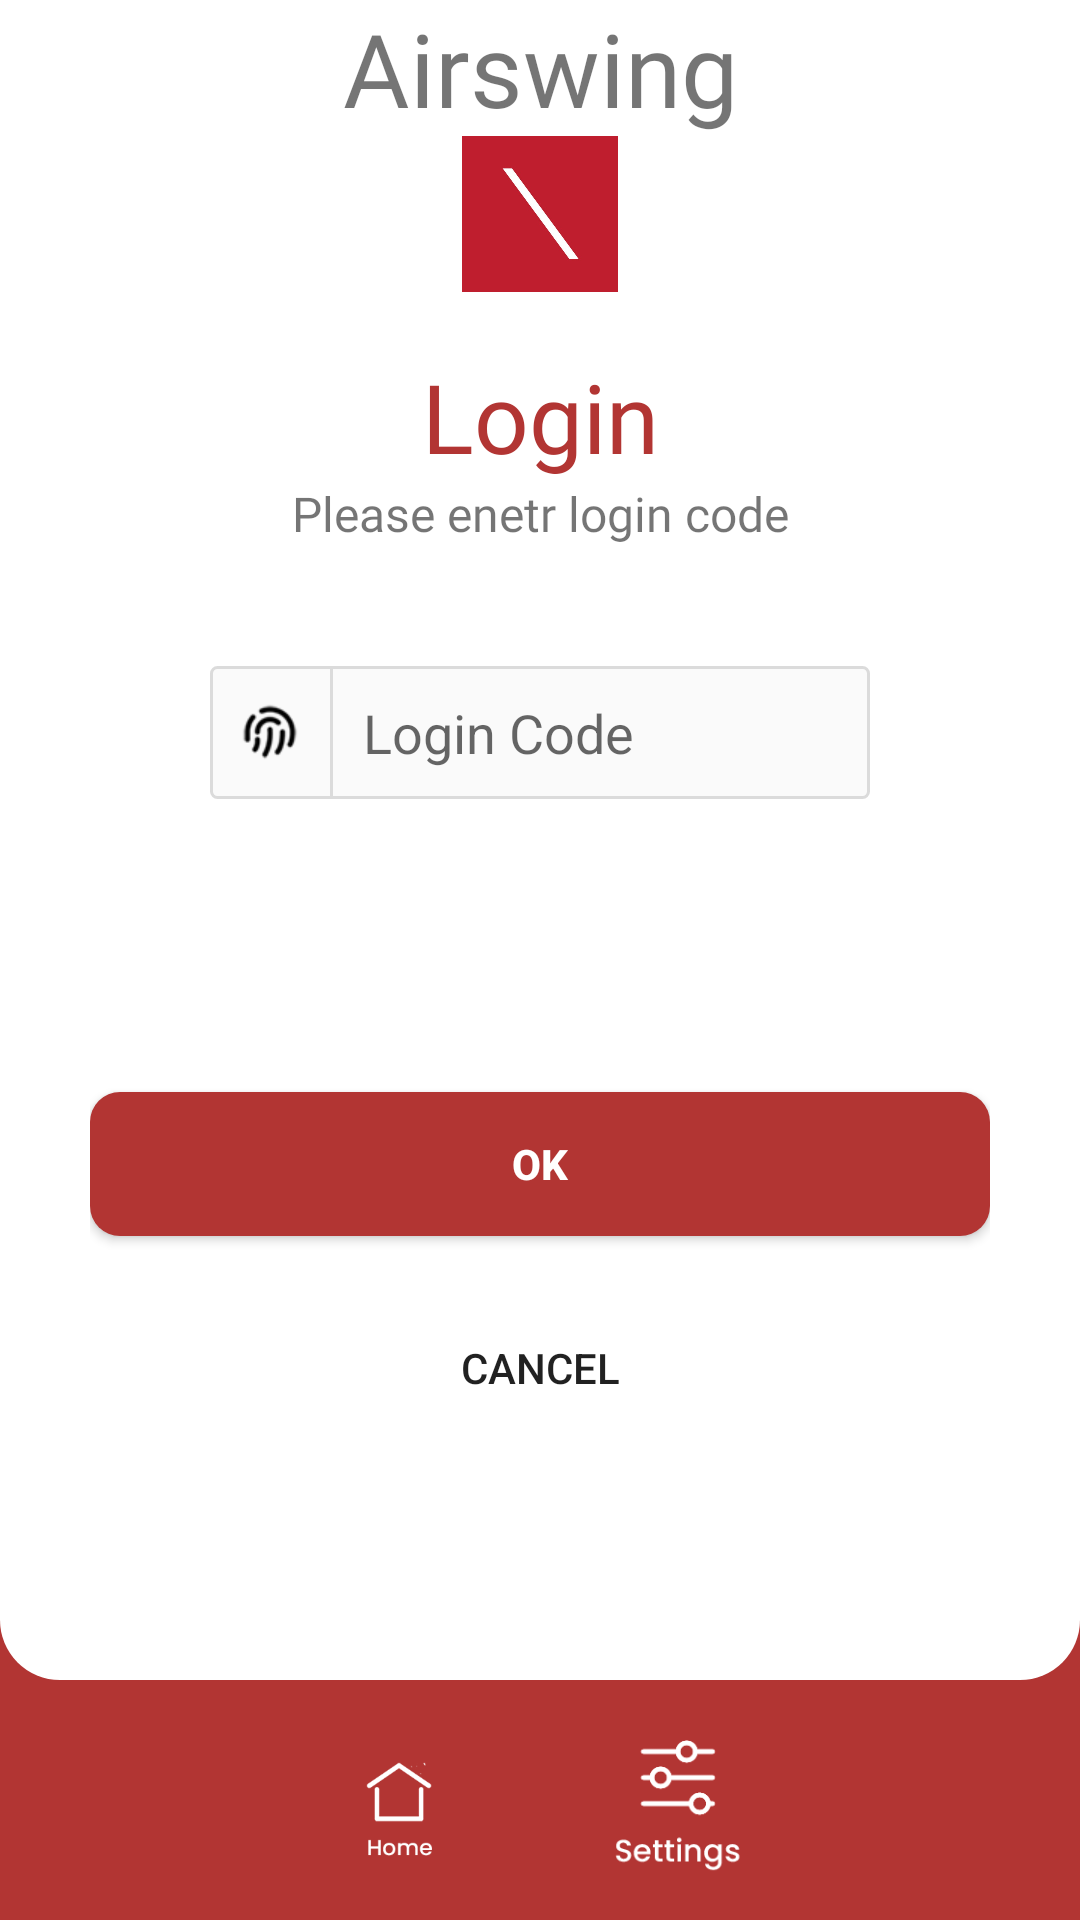

Named icons in this screenshot (1080 × 1920) and their bounding boxes, (x1, y1, x2, y2):
finger print: (243, 705, 297, 759)
